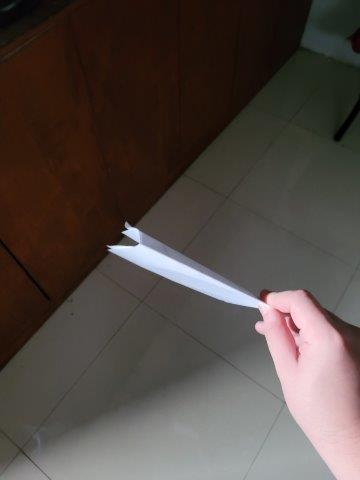kertas: (101, 224, 268, 311)
